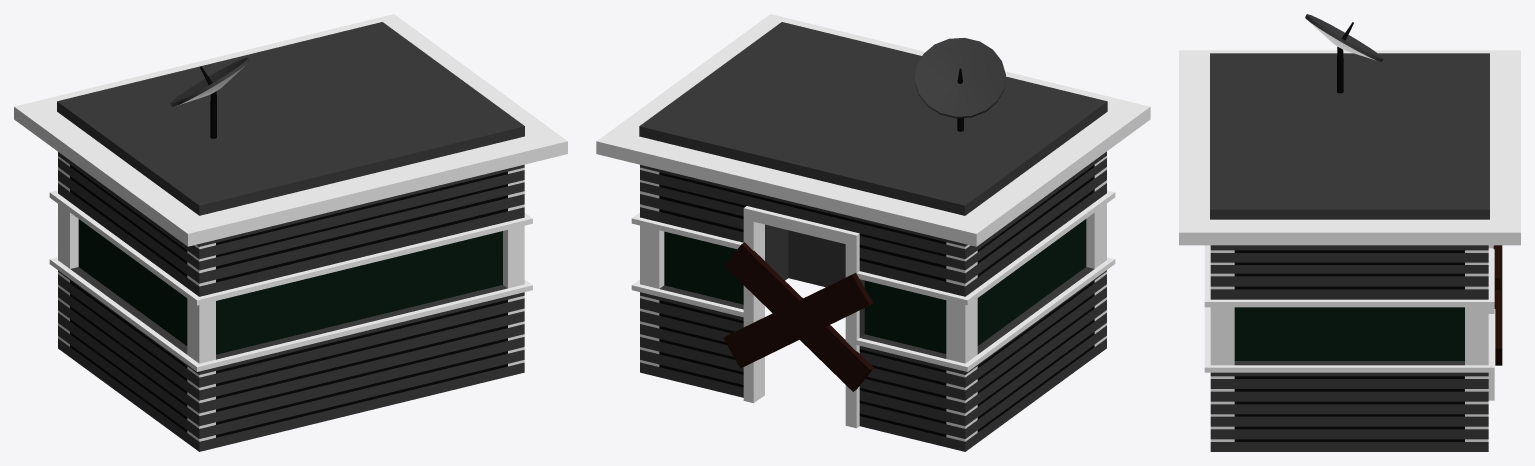
The model's file is Caseta.FBX.
3 views of the same model, side by side, from view 1: azimuth 30°, elevation 25°; view 2: azimuth 150°, elevation 25°; view 3: azimuth 270°, elevation 25° (orthographic).
Parts seen in each view (by area): view 1: Box001; view 2: Box001; view 3: Box001.
Boxes of the visible parts, box(x1,y1,x2,y2) form: Box001: box(14, 14, 567, 451); Box001: box(596, 14, 1150, 451); Box001: box(1179, 14, 1520, 451).
Size of the model in its own units: 173 by 142 by 137.
